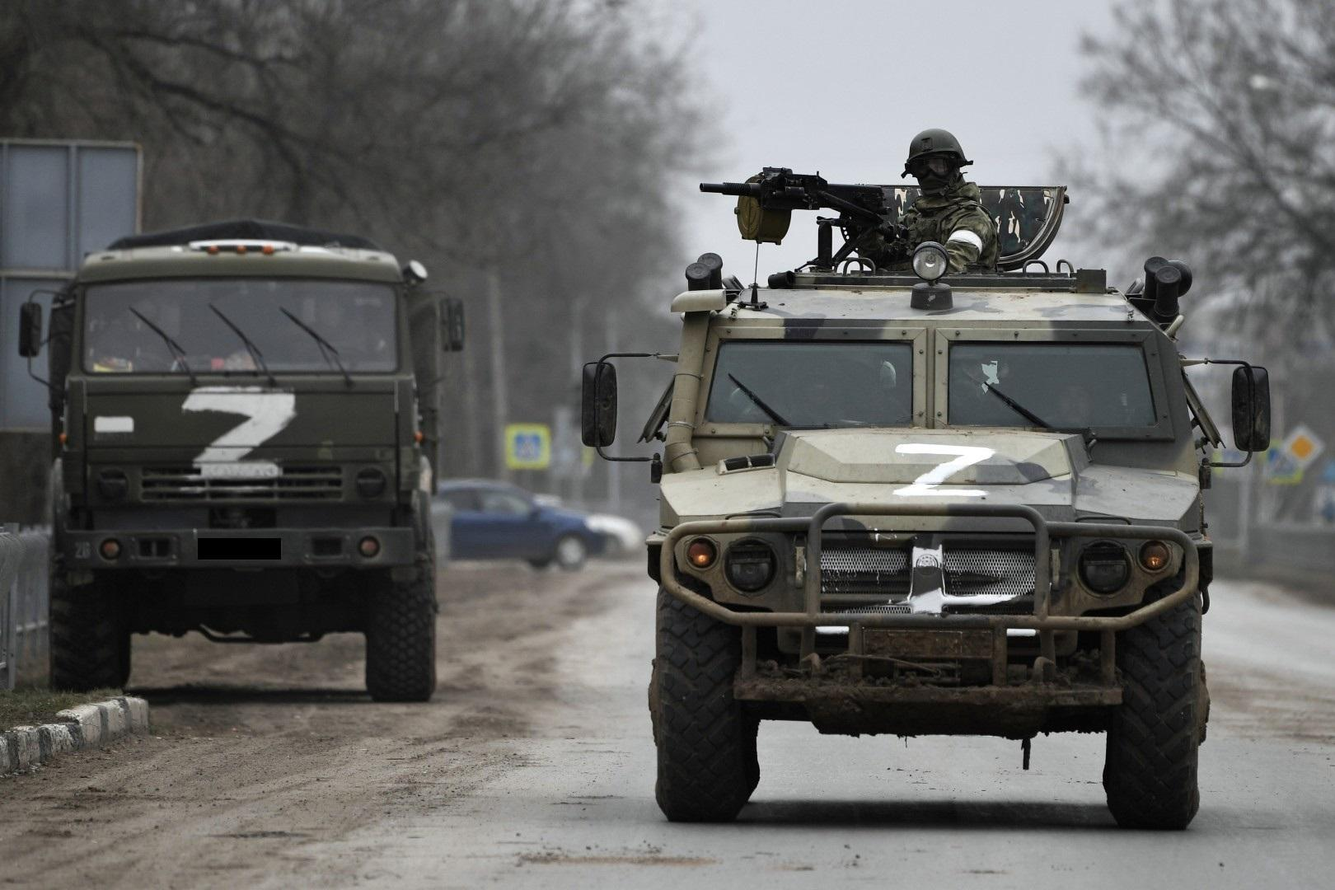armored_car: (653, 263, 1232, 817)
car: (424, 469, 605, 583)
truck: (36, 215, 472, 706)
